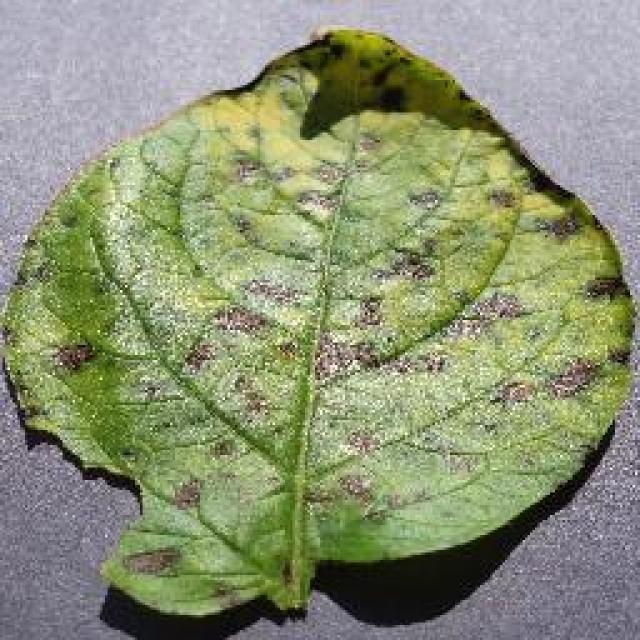early_blight: (0, 22, 638, 622)
